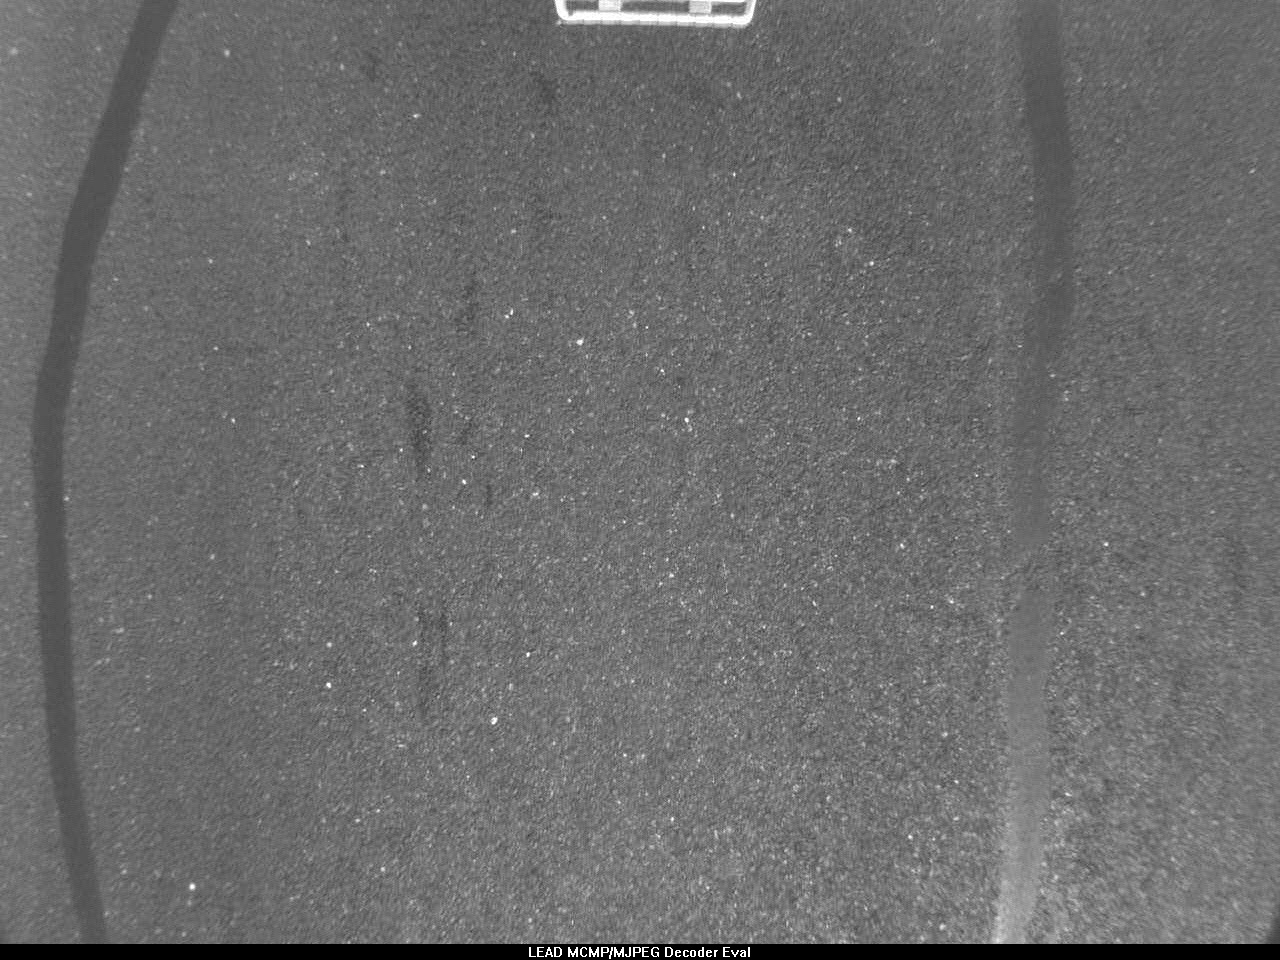sealed: (22, 4, 184, 952)
